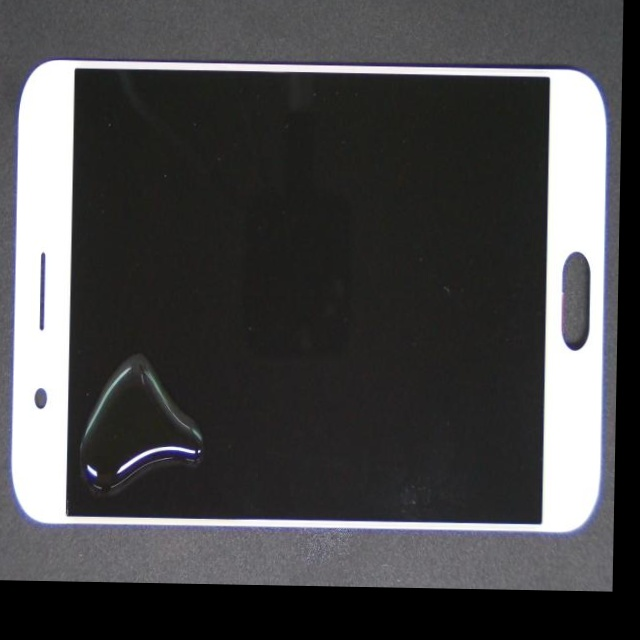oil: (0, 272, 220, 584)
